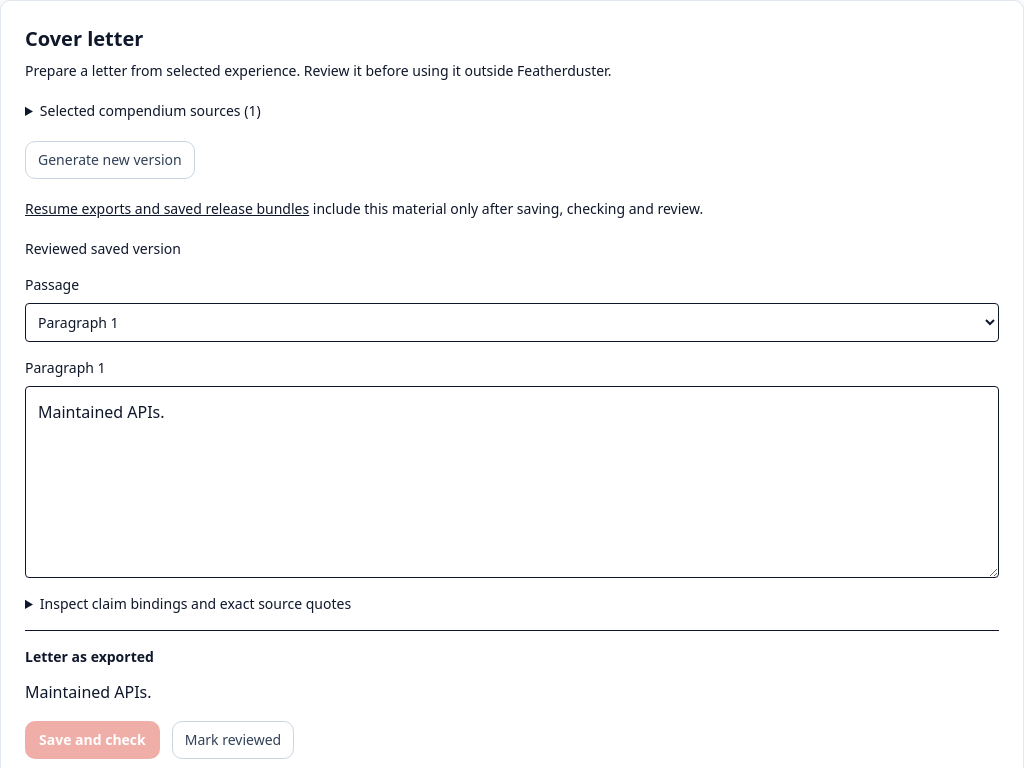
Test: labels the letter preview by draft and review state
Expected: the element "Letter as exported Maintained APIs." is shown, [25, 630, 999, 705]
Step 1. Replace the text in the text box with "Edited draft." → (512, 482), box [25, 386, 999, 578]
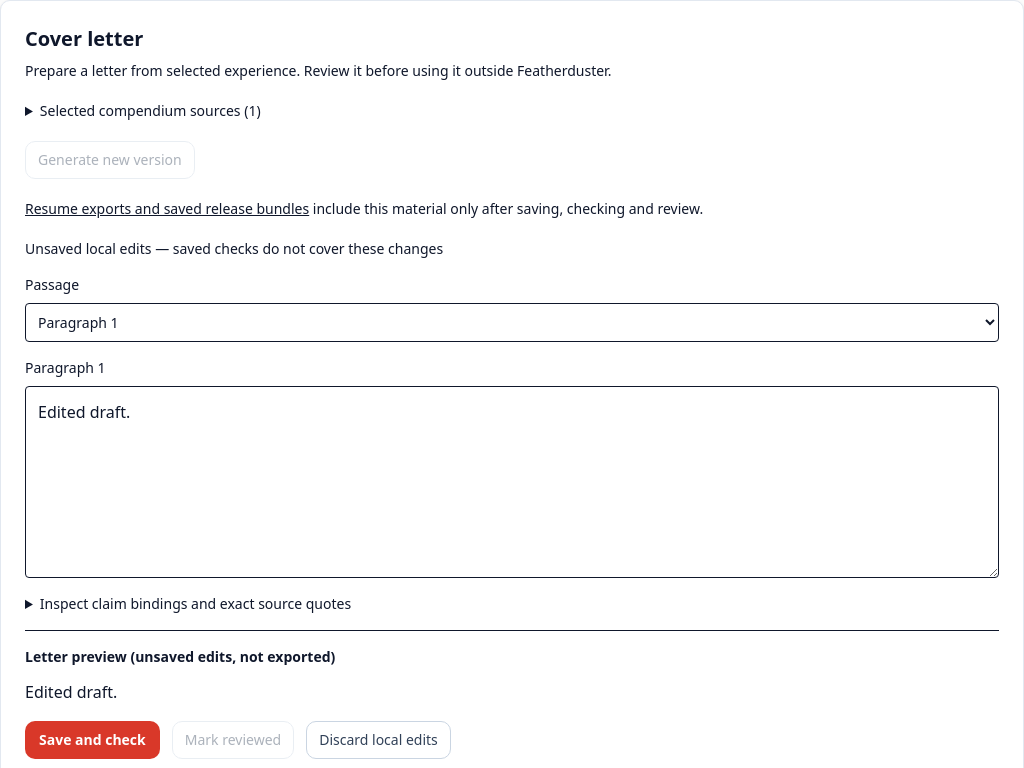
Expected: the element "Letter preview (unsaved edits, not exported) Edited draft." is shown, [25, 630, 999, 705]
